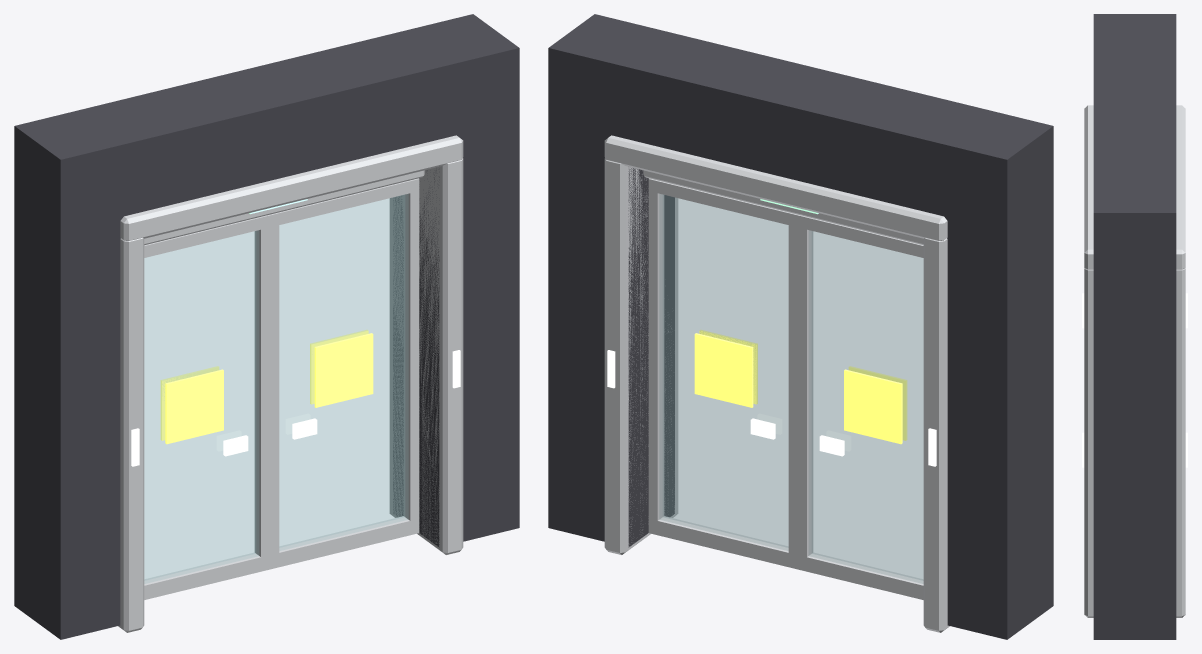
Rendered from door_mp_glass.glb.
3 renders of one model, left to right at view 1: azimuth 30°, elevation 25°; view 2: azimuth 150°, elevation 25°; view 3: azimuth 270°, elevation 25°, orthographic. The views are drawn at different scales.
Parts seen in each view (by area): view 1: frame, leaf_r, leaf_l; view 2: frame, leaf_r, leaf_l; view 3: frame.
Part boxes in pixels (x1,y1,x2,y2): frame: (14,14,519,639); leaf_r: (270,178,419,569); leaf_l: (144,215,270,599); frame: (548,14,1053,639); leaf_r: (648,178,797,569); leaf_l: (797,215,923,599); frame: (1082,14,1187,639).
Size of the model in its own units: 4 by 4.05 by 0.9.
